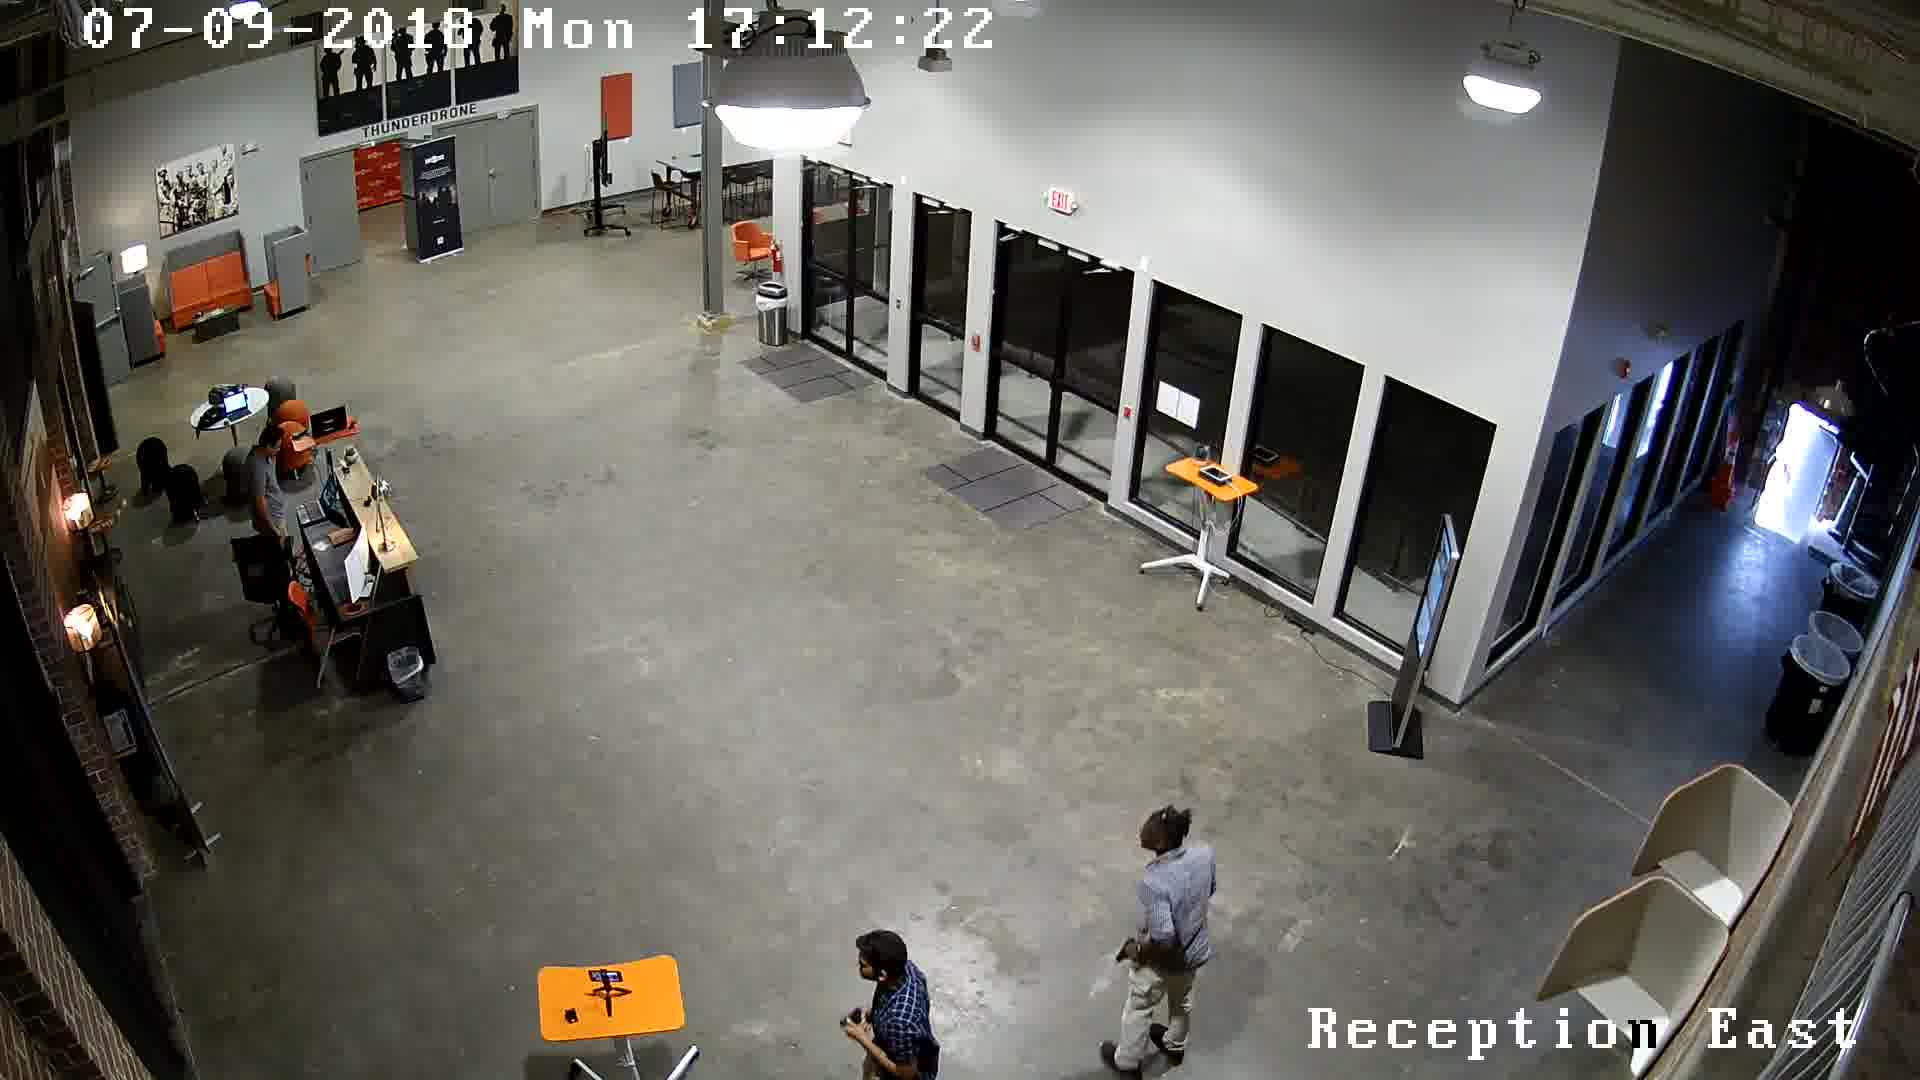pistol: (1101, 924, 1154, 976), (828, 1001, 880, 1040)
